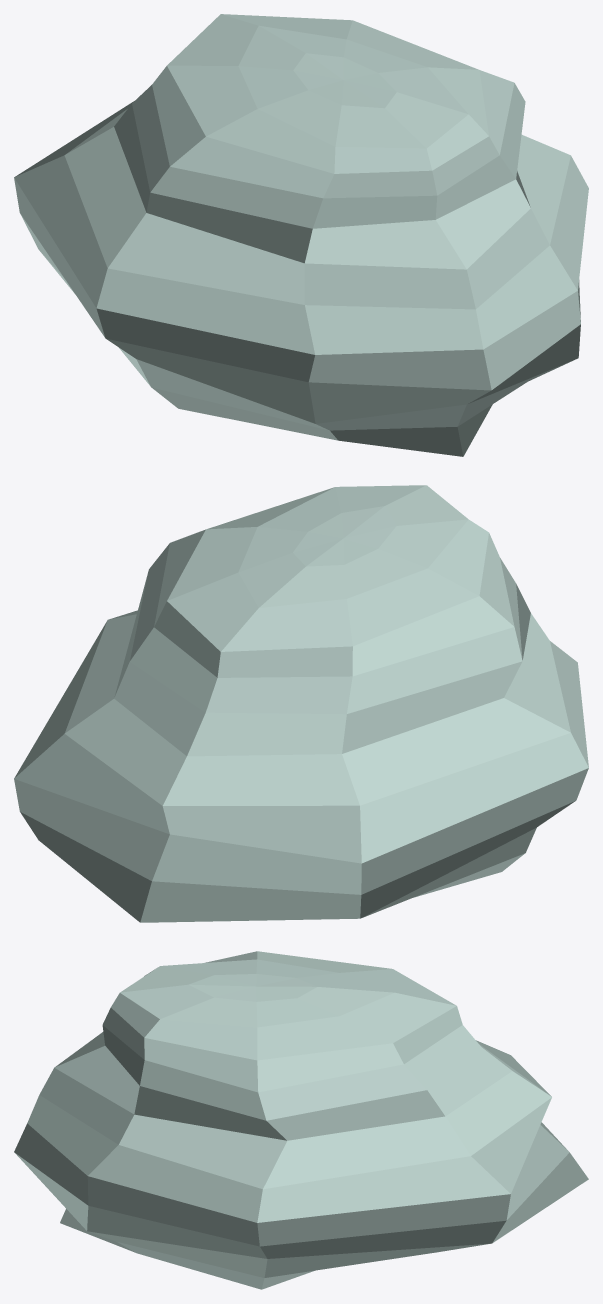
The model's file is Rock_Long.fbx.
3 views of the same model, one above another, from view 1: azimuth 30°, elevation 25°; view 2: azimuth 150°, elevation 25°; view 3: azimuth 270°, elevation 25° (orthographic). The views are drawn at different scales.
Parts seen in each view (by area): view 1: Sphere; view 2: Sphere; view 3: Sphere.
Part boxes in pixels (x1,y1,x2,y2): Sphere: (14,14,588,456); Sphere: (14,485,588,922); Sphere: (14,951,588,1289).
Bounding box in the file's own units: 1461 × 894 × 1805.
